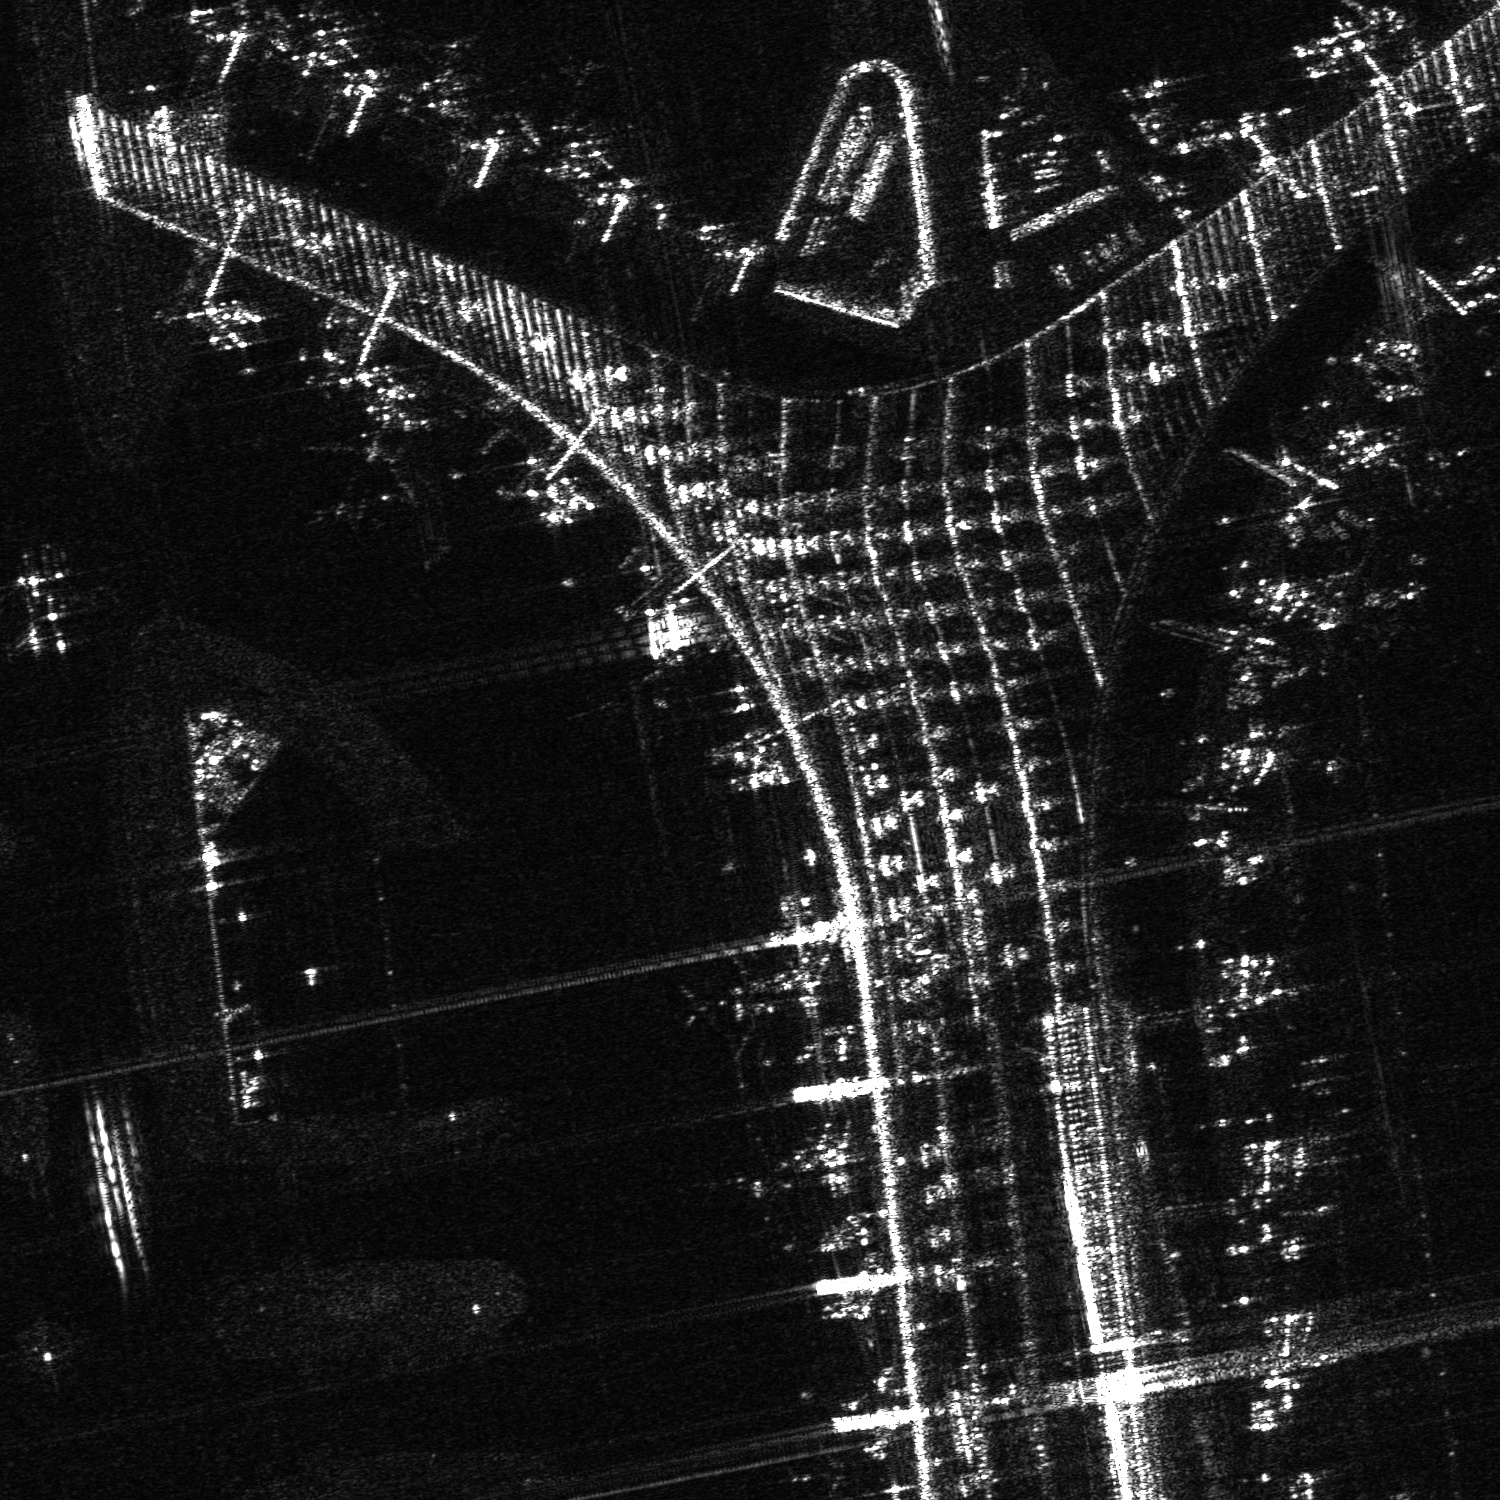A220: (786, 1444, 861, 1499)
Boeing787: (304, 431, 422, 522), (1386, 433, 1473, 519), (283, 16, 361, 62), (1486, 288, 1499, 375)
other: (680, 941, 793, 1063), (712, 1126, 802, 1225), (1268, 720, 1343, 795)
